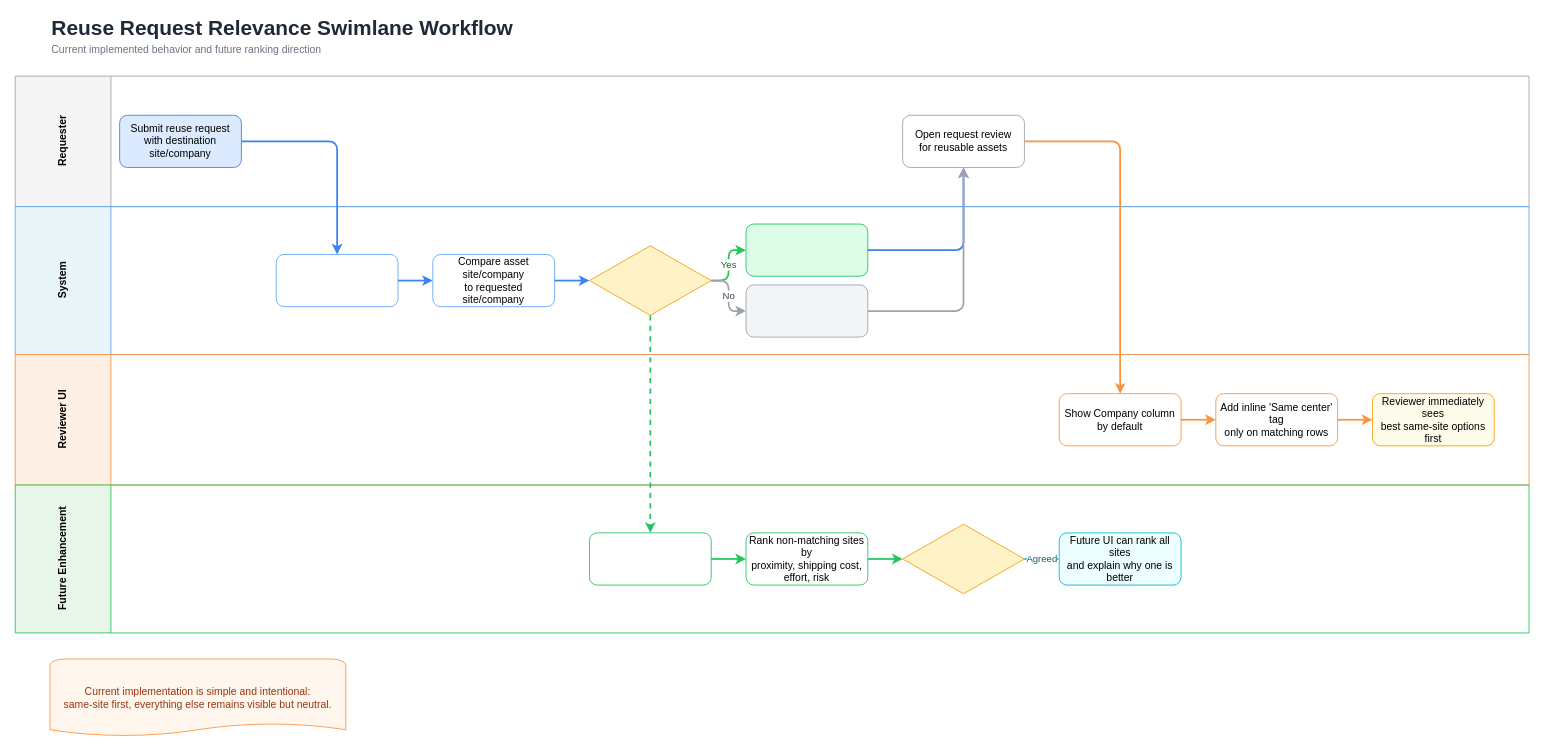
Image size: 1544x753. Some labels were removed from this diagram. The shapes that lost their labels are listed below. From the top down, each one's centre as x and y in pixels, then its label:
At point (806, 249): "Prioritize matching assets to the top".
At point (336, 280): "Load reusable_now candidates for the request".
At point (650, 280): "Same site/company?".
At point (806, 310): "Keep non-matching assets visible as fallback".
At point (650, 558): "Define ordered preferred sites for each requesting site".
At point (963, 558): "Agree business rule: proximity only or total cost/value?".
